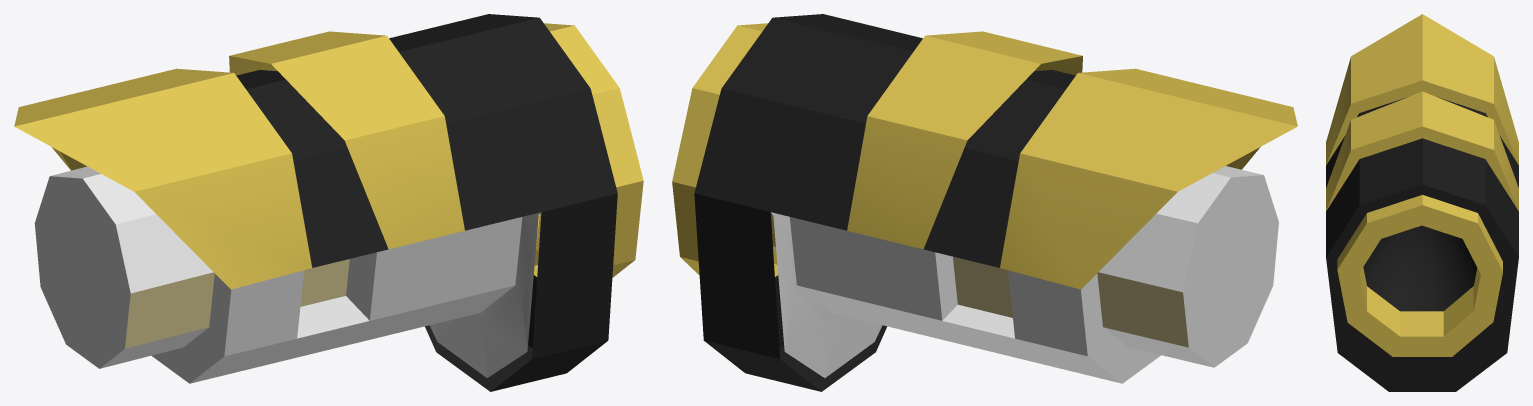
Rendered from Arma.fbx.
3 renders of one model, left to right at view 1: azimuth 30°, elevation 25°; view 2: azimuth 150°, elevation 25°; view 3: azimuth 270°, elevation 25°, orthographic. The views are drawn at different scales.
Visible parts, largest first — view 1: Astronauta; view 2: Astronauta; view 3: Astronauta.
Boxes of the visible parts, x1,y1,x2,y2 form: Astronauta: [14, 14, 643, 391]; Astronauta: [672, 14, 1297, 391]; Astronauta: [1326, 14, 1518, 391].
Bounding box in the file's own units: 67.96 × 41.15 × 32.78.
